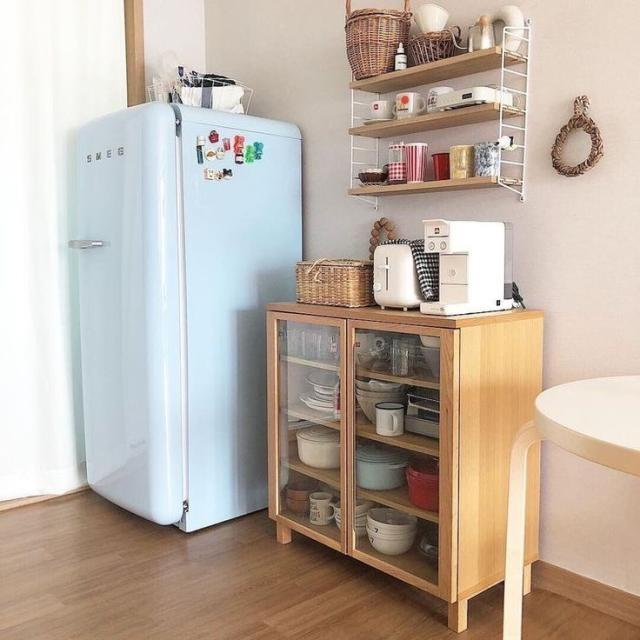obstacle: (68, 99, 304, 533), (266, 300, 544, 633), (500, 373, 640, 638), (346, 17, 532, 208)
